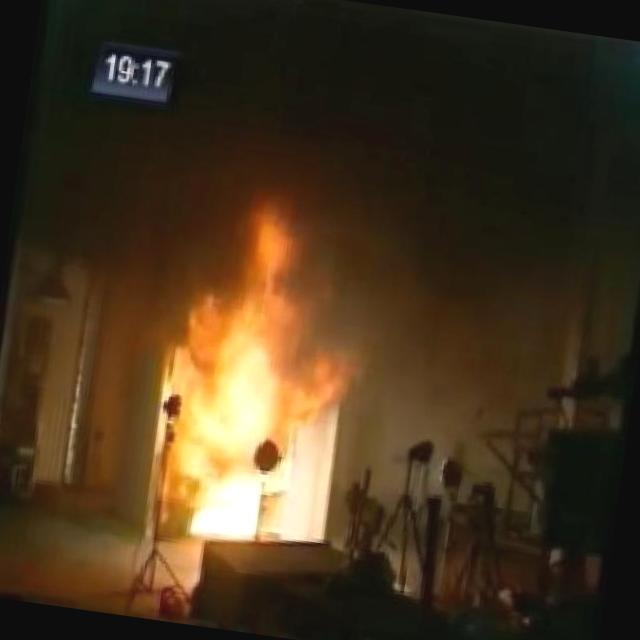fire: (150, 194, 358, 500)
smoke: (10, 0, 640, 313)
